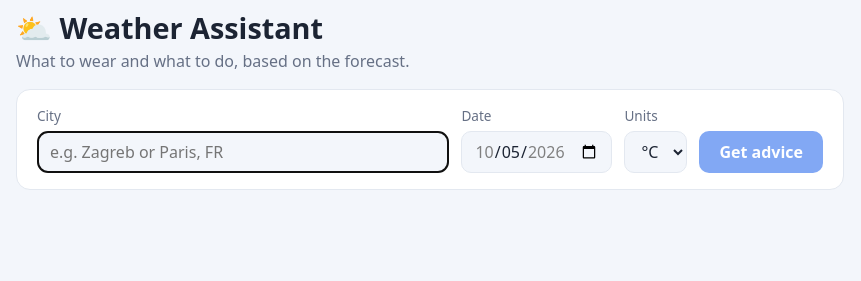
Test: App › shows validation errors returned as a list
Type "Zagreb" into the field labelled "City" at point(243, 152), box [37,131,449,173]
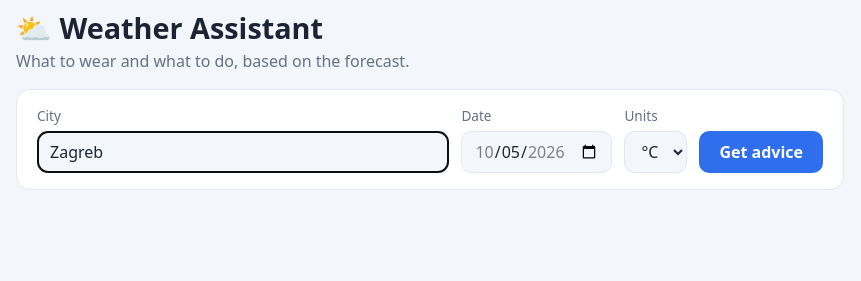
Click the button "Get advice" at point(761, 152), box [699,131,823,173]
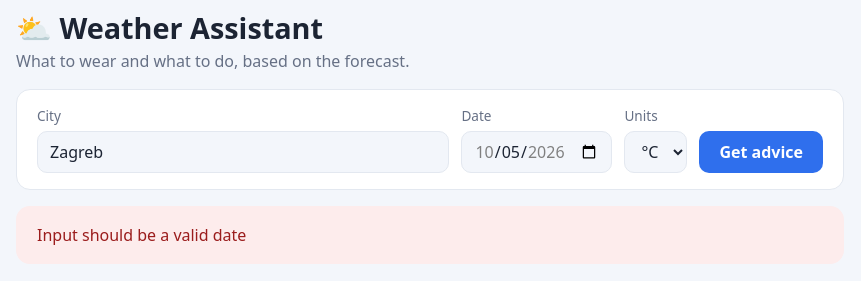
Check: the message reads "Input should be a valid date", box [37,224,246,246]
